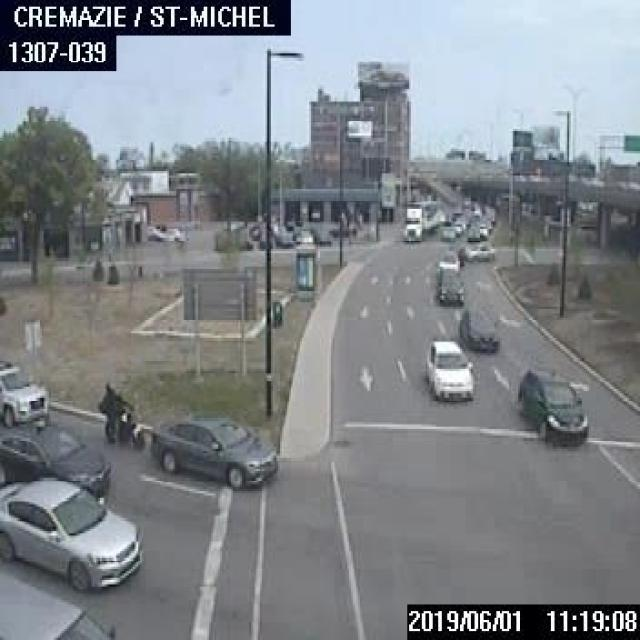vehicle: (0, 476, 142, 591), (149, 411, 280, 489), (0, 421, 107, 503), (0, 569, 116, 638), (516, 362, 588, 442), (94, 376, 144, 446), (0, 356, 47, 425), (423, 337, 473, 398), (458, 307, 498, 351), (436, 266, 464, 303), (402, 202, 426, 240), (437, 243, 464, 273), (464, 242, 493, 262), (164, 226, 185, 240), (466, 225, 479, 240), (438, 226, 453, 239), (476, 222, 486, 236), (451, 222, 462, 234)
